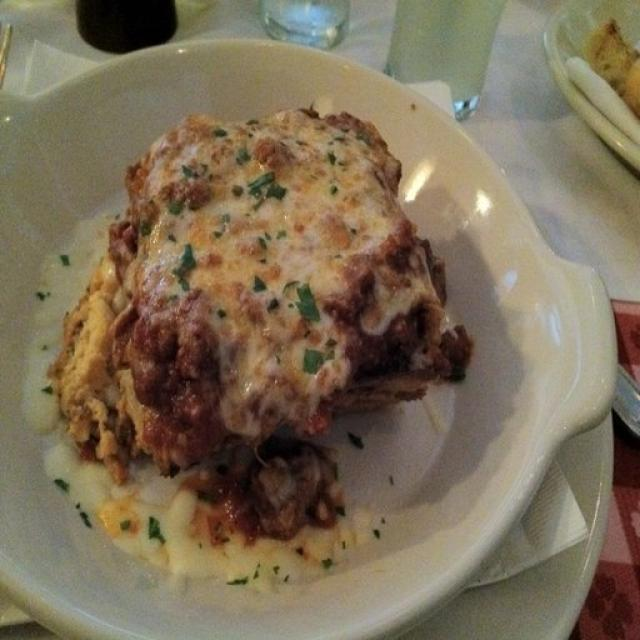Lasagna: (58, 132, 409, 548)
